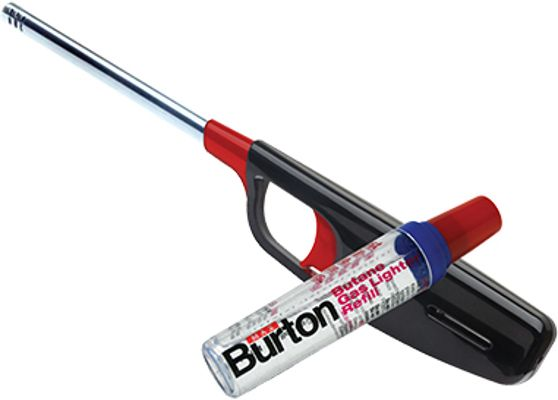Nonrec_Other: (5, 6, 558, 391)
